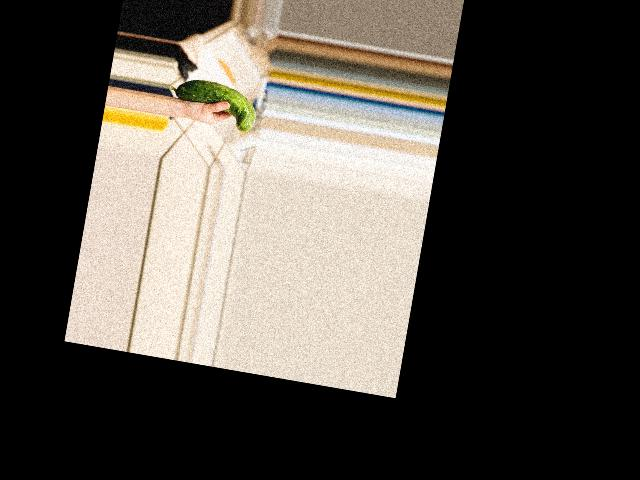cucumber: (164, 74, 260, 133)
